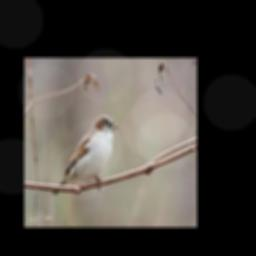Sparrow: (51, 115, 118, 195)
